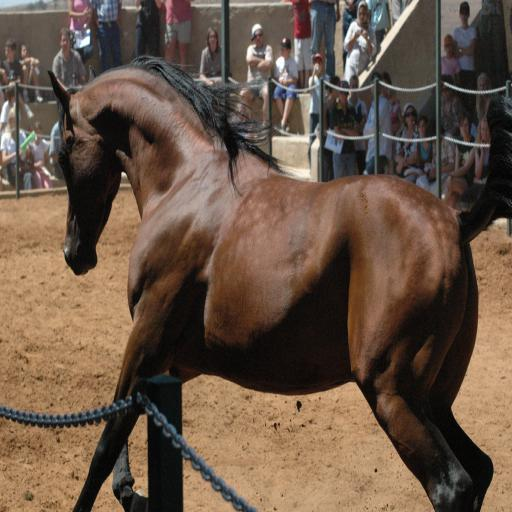horse: (47, 54, 512, 512)
